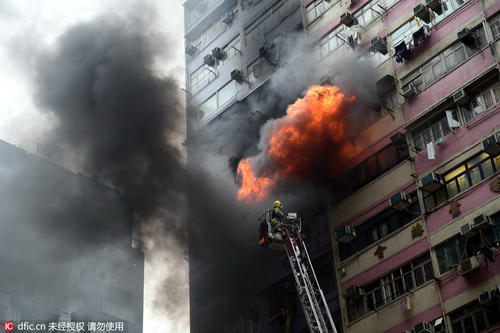fire: (230, 96, 360, 194)
smoke: (25, 23, 215, 242)
